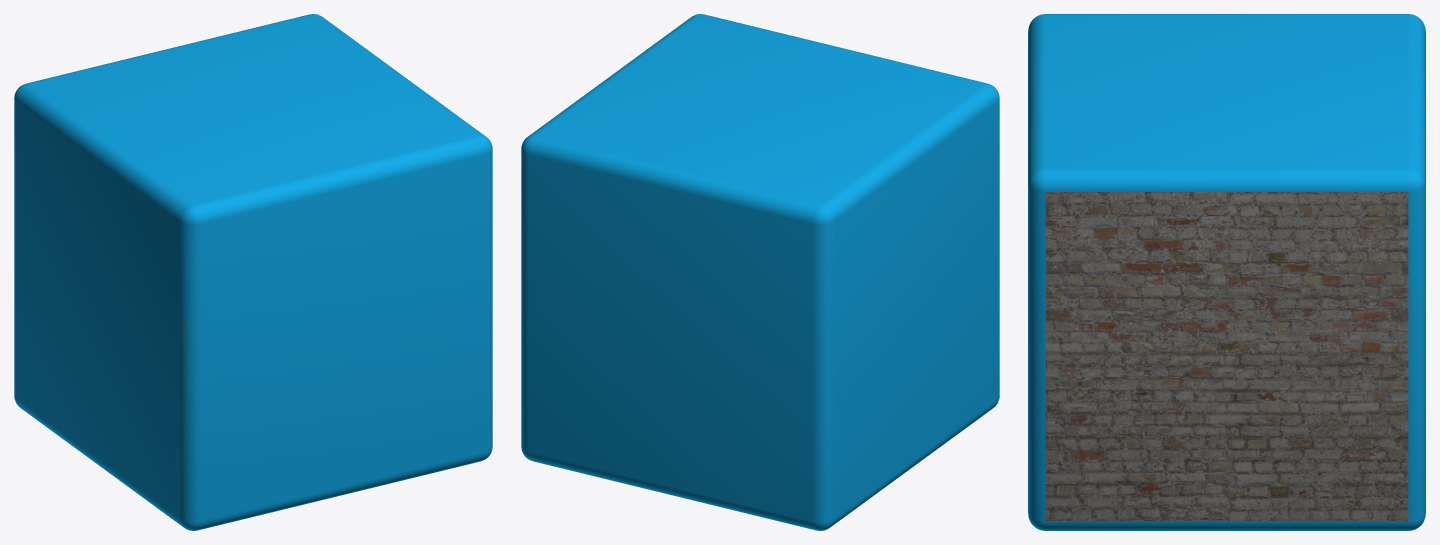
The model's file is cube_multi_mat.fbx.
3 views of the same model, side by side, from view 1: azimuth 30°, elevation 25°; view 2: azimuth 150°, elevation 25°; view 3: azimuth 270°, elevation 25° (orthographic). The views are drawn at different scales.
Visible parts, largest first — view 1: Cube; view 2: Cube; view 3: Cube.
Boxes of the visible parts, left/top/right/bottom form: Cube: left=14, top=14, right=492, bottom=530; Cube: left=521, top=14, right=999, bottom=530; Cube: left=1028, top=14, right=1425, bottom=530.
Bounding box in the file's own units: 507 × 507 × 507.
